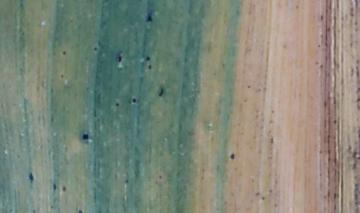tarspot: (27, 170, 35, 185), (156, 86, 165, 98), (145, 13, 154, 25), (116, 53, 123, 65), (80, 132, 89, 141), (229, 151, 236, 161), (268, 135, 274, 146), (146, 63, 153, 72), (51, 182, 57, 192), (61, 49, 68, 57), (131, 97, 137, 105), (157, 173, 163, 181), (59, 72, 65, 80), (61, 184, 67, 192), (318, 62, 324, 70), (319, 14, 324, 23), (92, 45, 98, 52), (123, 177, 129, 184), (144, 56, 152, 61), (114, 101, 120, 107), (30, 208, 36, 213), (332, 119, 337, 124), (77, 209, 83, 213)
